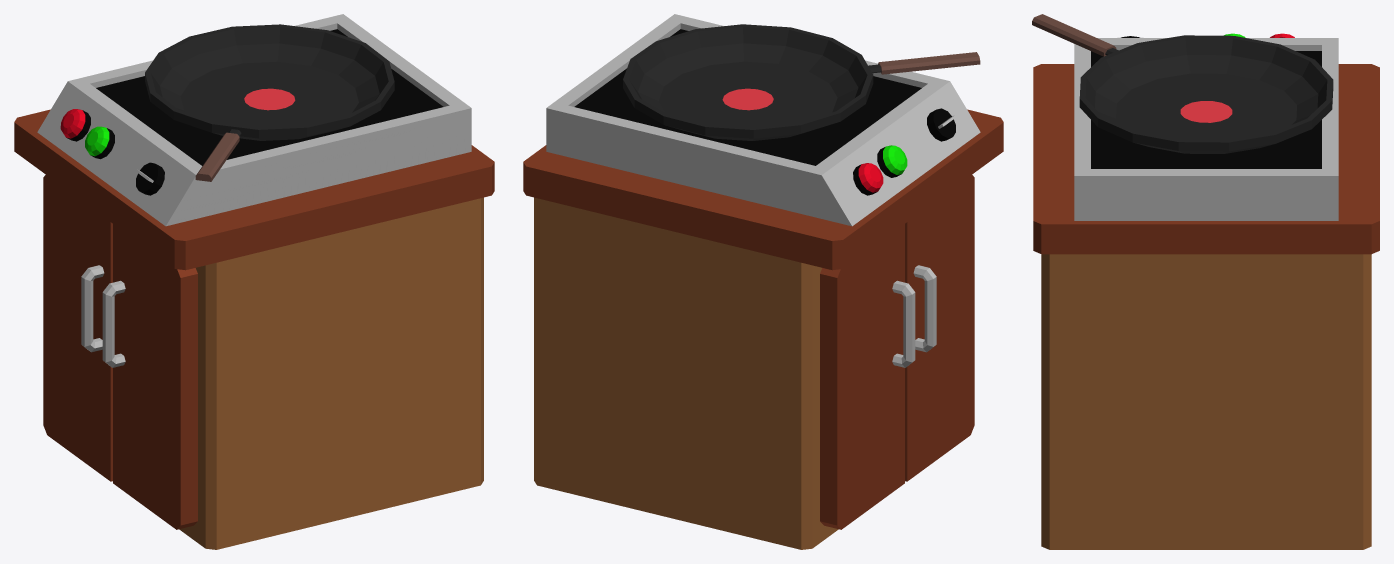
File: Stove_Counter.fbx
The picture shows the model from 3 angles, left to right: view 1: azimuth 30°, elevation 25°; view 2: azimuth 150°, elevation 25°; view 3: azimuth 270°, elevation 25°; orthographic projection. The views are drawn at different scales.
Parts seen in each view (by area): view 1: Counter_Base, Counter_Doors, Stove, Pan, Counter_Top, Counter_Handles; view 2: Counter_Base, Counter_Doors, Stove, Pan, Counter_Top, Counter_Handles; view 3: Counter_Base, Pan, Counter_Top, Stove.
Boxes of the visible parts, bbox=[...] form: Counter_Base: bbox=[179, 197, 483, 549]; Counter_Doors: bbox=[43, 175, 197, 529]; Stove: bbox=[37, 14, 471, 226]; Pan: bbox=[145, 24, 394, 181]; Counter_Top: bbox=[14, 109, 494, 270]; Counter_Handles: bbox=[81, 265, 125, 367]; Counter_Base: bbox=[534, 197, 838, 549]; Counter_Doors: bbox=[820, 175, 974, 529]; Stove: bbox=[546, 14, 980, 226]; Pan: bbox=[623, 24, 980, 140]; Counter_Top: bbox=[523, 109, 1003, 270]; Counter_Handles: bbox=[892, 265, 936, 367]; Counter_Base: bbox=[1041, 254, 1371, 549]; Pan: bbox=[1032, 14, 1333, 153]; Counter_Top: bbox=[1033, 64, 1379, 254]; Stove: bbox=[1074, 33, 1338, 220].
Size of the model in its own units: 1.15 by 1.31 by 1.05.
